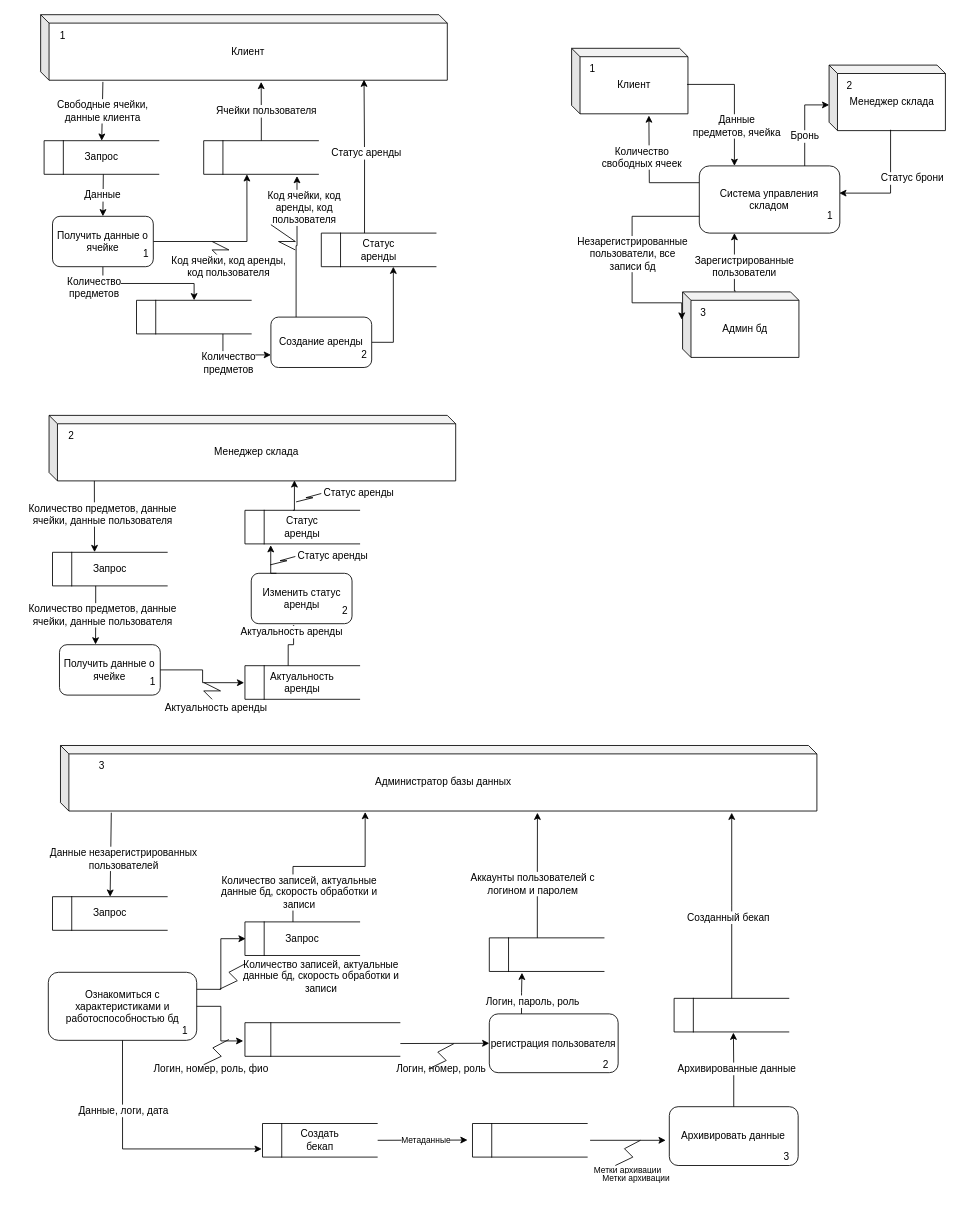
The diagram is 973 pixels wide and 1205 high, and some of its shapes have lost their labels. Here are the shapes that lost their labels. From the top down, the centre of each, then its label:
At [261,157]: "Аренда ячейки".
At [194,316]: "Данные ячейки".
At [546,954]: "Данные пользователя".
At [731,1015]: "Бекап системы".
At [322,1039]: "Данные незарегистрированного пользователя".
At [530,1140]: "Архив данных".
